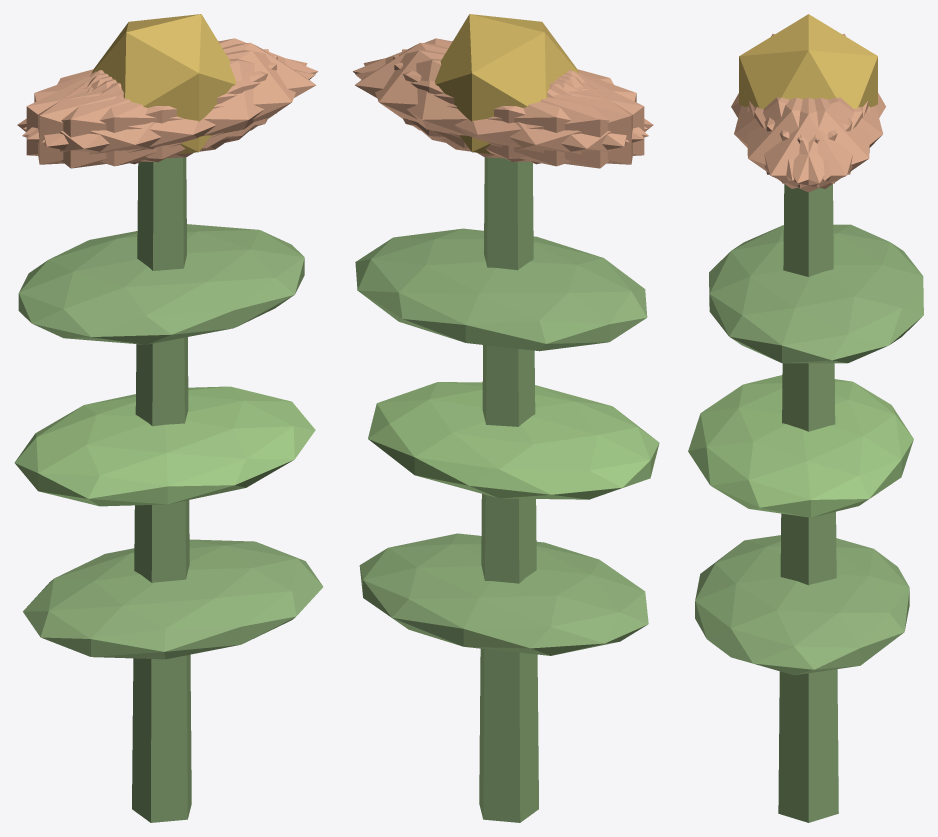
The model's file is piper-kawakamii.glb.
3 renders of one model, left to right at view 1: azimuth 30°, elevation 25°; view 2: azimuth 150°, elevation 25°; view 3: azimuth 270°, elevation 25°, orthographic.
Visible parts, largest first — view 1: leaf1, leaf0, leaf2, stem, center, petal1, petal6, petal2, petal5, petal7, petal0, petal4 (+2 smaller); view 2: leaf2, leaf1, leaf0, stem, center, petal8, petal3, petal7, petal4, petal2, petal0, petal5 (+2 smaller); view 3: leaf2, leaf1, leaf0, stem, center, petal0, petal5, petal4, petal8, petal1.
Boxes of the visible parts, left/top/right/bottom form: leaf1: left=14, top=386, right=315, bottom=506; leaf0: left=23, top=539, right=323, bottom=659; leaf2: left=18, top=224, right=304, bottom=344; stem: left=132, top=157, right=191, bottom=822; center: left=91, top=14, right=236, bottom=154; petal1: left=22, top=58, right=315, bottom=166; petal6: left=17, top=71, right=229, bottom=168; petal2: left=38, top=49, right=268, bottom=164; petal5: left=42, top=50, right=307, bottom=158; petal7: left=26, top=55, right=277, bottom=162; petal0: left=91, top=42, right=316, bottom=148; petal4: left=23, top=38, right=317, bottom=139; leaf2: left=355, top=228, right=647, bottom=351; leaf1: left=368, top=382, right=659, bottom=499; leaf0: left=359, top=533, right=648, bottom=655; stem: left=479, top=157, right=538, bottom=822; center: left=435, top=14, right=579, bottom=154; petal8: left=355, top=58, right=648, bottom=166; petal3: left=441, top=71, right=653, bottom=168; petal7: left=402, top=49, right=632, bottom=164; petal4: left=363, top=50, right=628, bottom=158; petal2: left=393, top=55, right=644, bottom=162; petal0: left=355, top=42, right=579, bottom=148; petal5: left=353, top=38, right=647, bottom=139; leaf2: left=709, top=224, right=923, bottom=363; leaf1: left=688, top=375, right=913, bottom=517; leaf0: left=695, top=535, right=909, bottom=675; stem: left=778, top=184, right=838, bottom=822; center: left=739, top=14, right=877, bottom=108; petal0: left=749, top=97, right=868, bottom=192; petal5: left=747, top=97, right=862, bottom=188; petal4: left=754, top=97, right=869, bottom=188; petal8: left=764, top=97, right=882, bottom=180; petal1: left=734, top=97, right=852, bottom=180.
Bounding box in the file's own units: 0.1452 × 0.3781 × 0.104.
